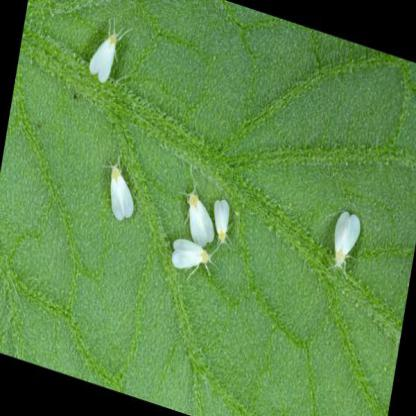whitefly: (334, 211, 360, 268), (89, 33, 117, 82), (190, 191, 214, 247), (111, 165, 133, 224), (172, 239, 212, 268), (214, 198, 229, 243)
